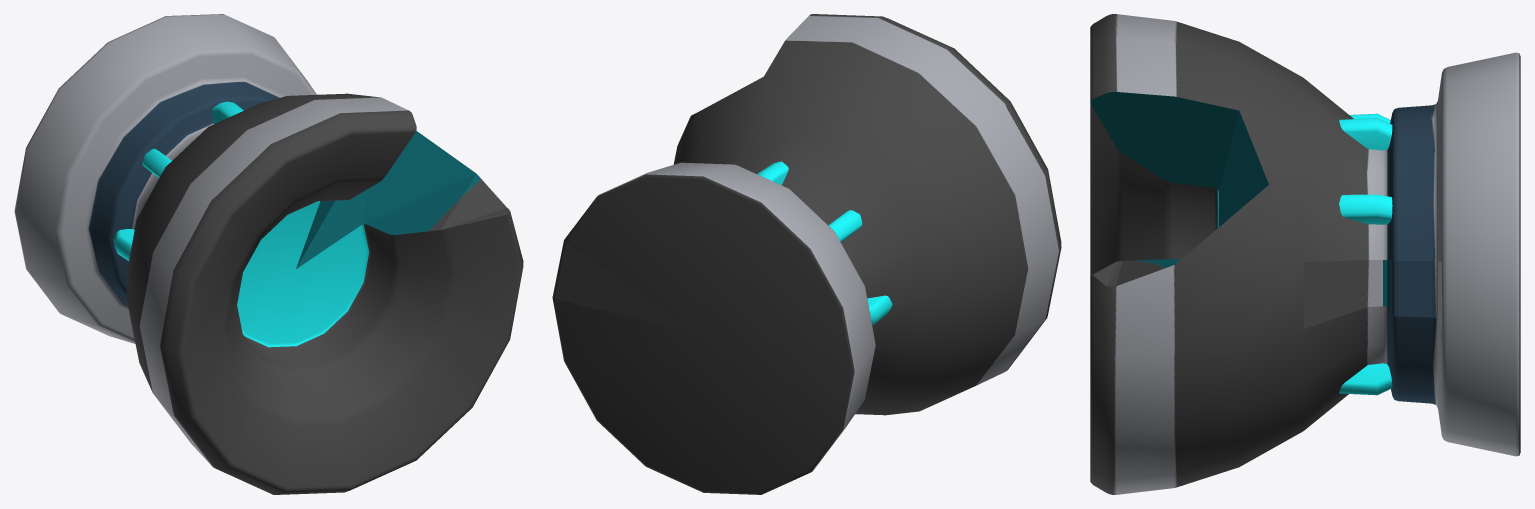
Rendered from Assist_danqiping01_huai.FBX.
3 views of the same model, side by side, from view 1: azimuth 30°, elevation 25°; view 2: azimuth 150°, elevation 25°; view 3: azimuth 270°, elevation 25° (orthographic). The views are drawn at different scales.
Parts seen in each view (by area): view 1: Assist_danqiping01_huai; view 2: Assist_danqiping01_huai; view 3: Assist_danqiping01_huai.
Boxes of the visible parts, box(x1,y1,x2,y2) form: Assist_danqiping01_huai: box(14, 14, 523, 494); Assist_danqiping01_huai: box(552, 14, 1061, 494); Assist_danqiping01_huai: box(1090, 14, 1520, 494).
Bounding box in the file's own units: 0.8607 × 0.8607 × 0.7694.
Materials: 1 (1 with a texture image).
